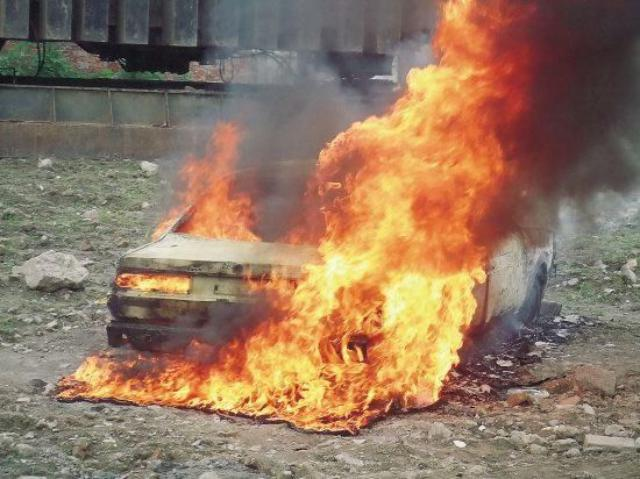fire: (304, 165, 472, 264), (321, 334, 453, 406), (326, 116, 500, 168), (340, 268, 474, 330), (245, 308, 319, 418), (429, 0, 534, 67), (393, 67, 519, 117), (261, 259, 337, 310), (185, 151, 229, 235), (118, 361, 198, 405), (204, 341, 246, 415), (64, 352, 116, 397), (318, 405, 377, 431), (231, 201, 257, 242), (210, 121, 232, 152)
